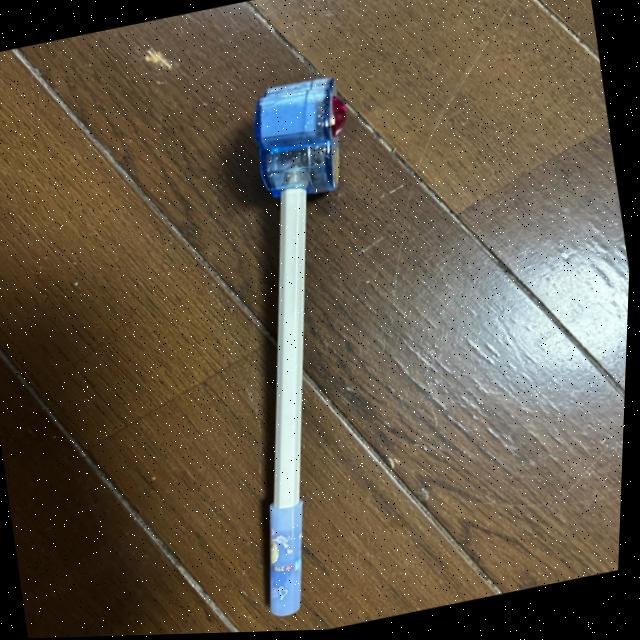pencil: (269, 187, 317, 508)
